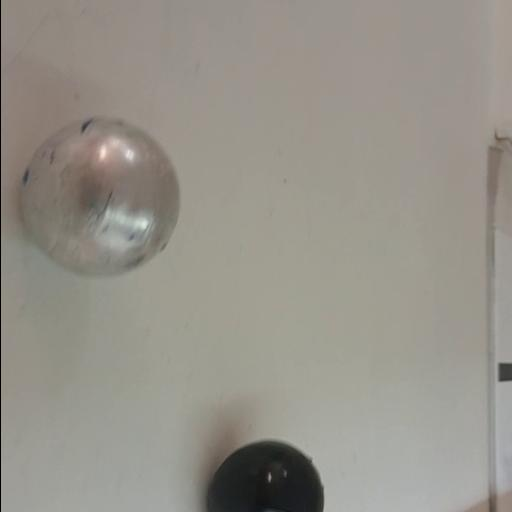alive: (18, 115, 184, 282)
dead: (204, 437, 324, 512)
